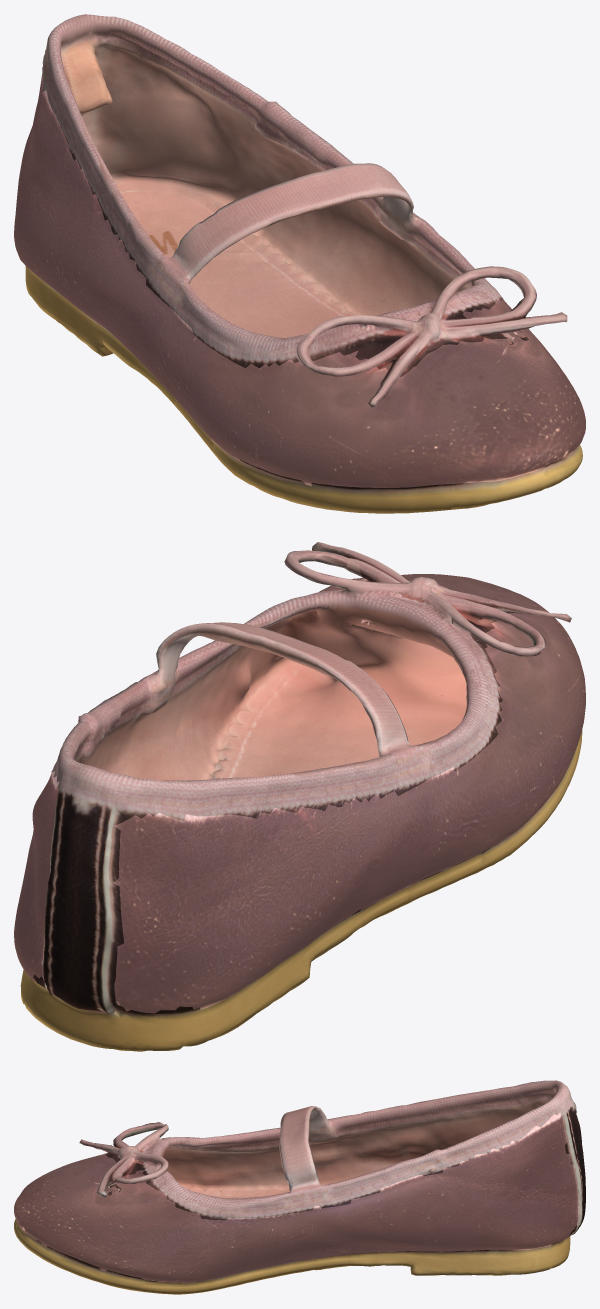
Rendered from shoes8.glb.
3 renders of one model, top to bottom at view 1: azimuth 30°, elevation 25°; view 2: azimuth 150°, elevation 25°; view 3: azimuth 270°, elevation 25°, orthographic. The views are drawn at different scales.
Parts seen in each view (by area): view 1: Object_4, Object_2; view 2: Object_4, Object_2; view 3: Object_4, Object_2.
Boxes of the visible parts, left/top/right/bottom form: Object_4: left=25, top=14, right=582, bottom=513; Object_2: left=14, top=74, right=585, bottom=487; Object_4: left=20, top=542, right=582, bottom=1051; Object_2: left=14, top=574, right=585, bottom=1013; Object_4: left=14, top=1080, right=585, bottom=1294; Object_2: left=14, top=1112, right=579, bottom=1283.
Bounding box in the file's own units: 3.55 × 2.99 × 9.17.
Materials: 2 (2 with a texture image).
